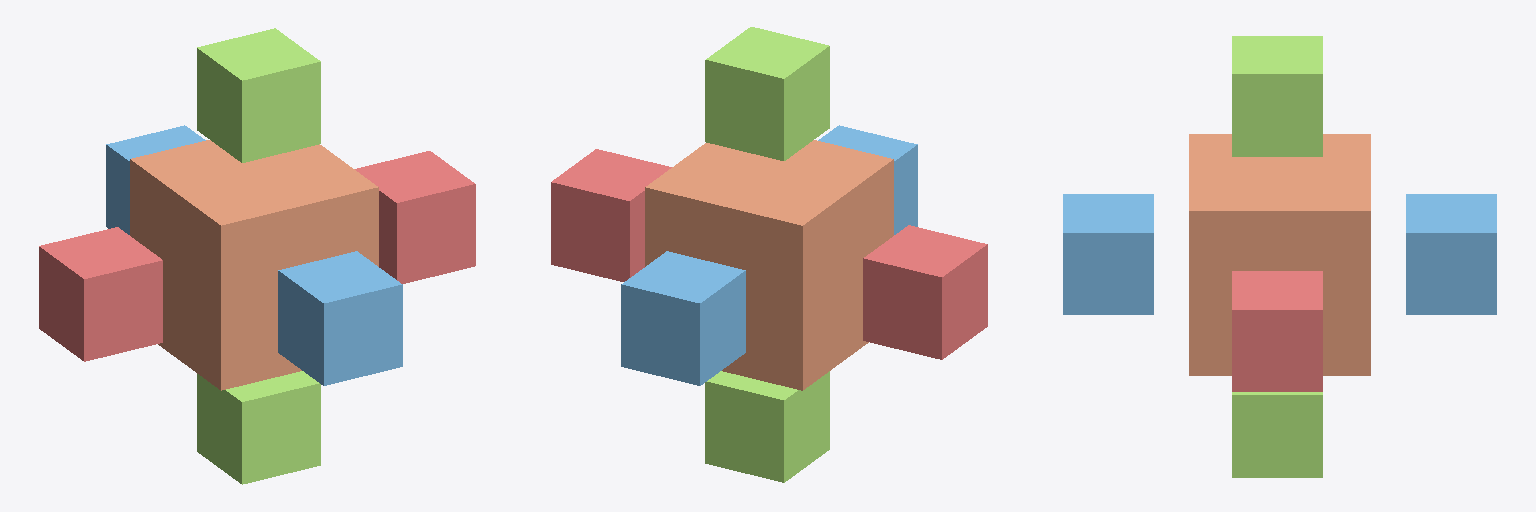
3 views of the same model, side by side, from view 1: azimuth 30°, elevation 25°; view 2: azimuth 150°, elevation 25°; view 3: azimuth 270°, elevation 25° (orthographic).
Visible parts, largest first — view 1: Cube_Cube.002; view 2: Cube_Cube.002; view 3: Cube_Cube.002.
Part boxes in pixels (bbox=[...]): Cube_Cube.002: bbox=[39, 28, 475, 484]; Cube_Cube.002: bbox=[551, 27, 987, 482]; Cube_Cube.002: bbox=[1063, 36, 1496, 477].
Size of the model in its own units: 4.96 by 4.89 by 4.78.
Materials: 1 (1 with a texture image).